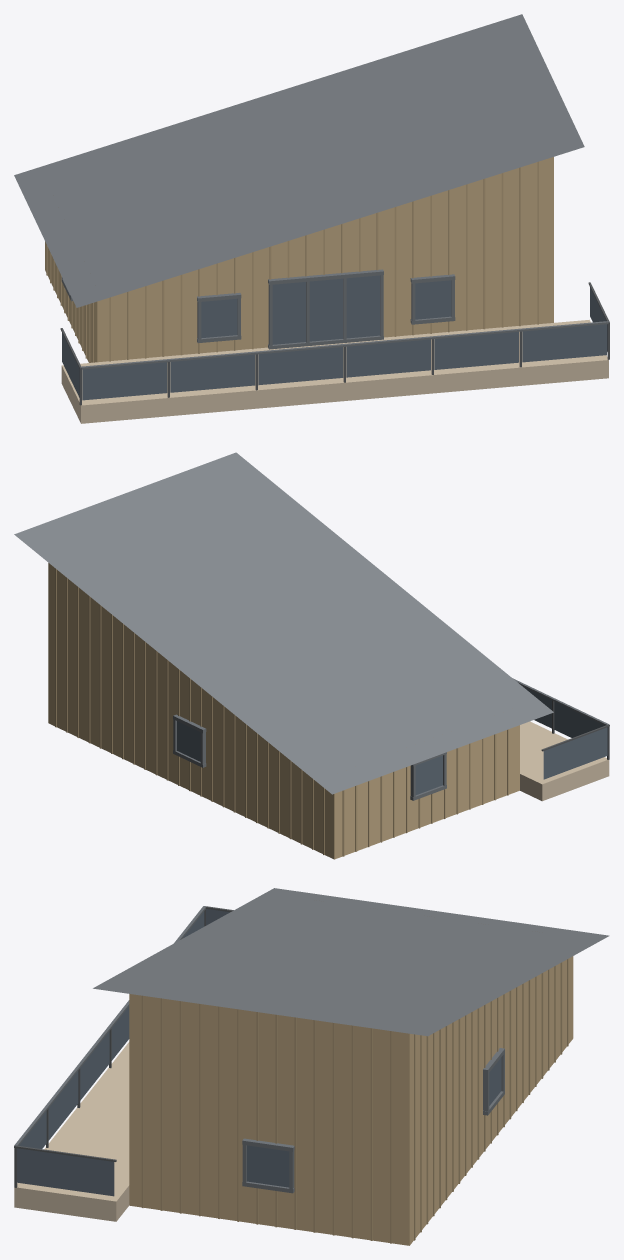
3 views of the same model, one above another, from view 1: azimuth 30°, elevation 25°; view 2: azimuth 150°, elevation 25°; view 3: azimuth 270°, elevation 25° (orthographic). The views are drawn at different scales.
Visible parts, largest first — view 1: slate, door_wood, larch, slate_dk, door_wood_p, window_glass_001, window_glass_002, window_glass_003, window_glass_004, window_glass_006, window_glass_005, window_glass_009 (+6 smaller); view 2: slate, door_wood, door_wood_p, larch, window_glass_007, slate_dk, window_glass_001, window_glass_014, window_glass_016; view 3: door_wood, slate, door_wood_p, larch, window_glass_008, slate_dk, window_glass_015, window_glass_005, window_glass_004, pipe, window_glass_003, window_glass_006.
Boxes of the visible parts, bbox=[...] form: slate: bbox=[14, 14, 584, 307]; door_wood: bbox=[45, 157, 553, 362]; larch: bbox=[61, 319, 608, 423]; slate_dk: bbox=[61, 269, 608, 369]; door_wood_p: bbox=[46, 161, 538, 362]; window_glass_001: bbox=[82, 362, 167, 400]; window_glass_002: bbox=[170, 354, 255, 392]; window_glass_003: bbox=[258, 347, 343, 385]; window_glass_004: bbox=[346, 339, 430, 377]; window_glass_006: bbox=[522, 324, 606, 362]; window_glass_005: bbox=[434, 332, 518, 369]; window_glass_009: bbox=[272, 282, 305, 344]; slate: bbox=[14, 452, 553, 794]; door_wood: bbox=[48, 563, 519, 859]; door_wood_p: bbox=[55, 568, 508, 856]; larch: bbox=[520, 721, 609, 801]; window_glass_007: bbox=[543, 727, 607, 779]; slate_dk: bbox=[173, 678, 608, 800]; window_glass_001: bbox=[554, 701, 604, 737]; window_glass_014: bbox=[415, 755, 442, 794]; window_glass_016: bbox=[177, 721, 200, 761]; door_wood: bbox=[129, 956, 573, 1245]; slate: bbox=[93, 888, 609, 1036]; door_wood_p: bbox=[141, 959, 568, 1243]; larch: bbox=[14, 1042, 129, 1221]; window_glass_008: bbox=[17, 1148, 114, 1196]; slate_dk: bbox=[14, 906, 504, 1193]; window_glass_015: bbox=[247, 1145, 289, 1187]; window_glass_005: bbox=[48, 1071, 78, 1140]; window_glass_004: bbox=[80, 1031, 109, 1100]; pipe: bbox=[14, 906, 233, 1187]; window_glass_003: bbox=[111, 1006, 129, 1060]; window_glass_006: bbox=[19, 1111, 46, 1148].
Size of the model in its own units: 15.51 by 5.54 by 13.3.
